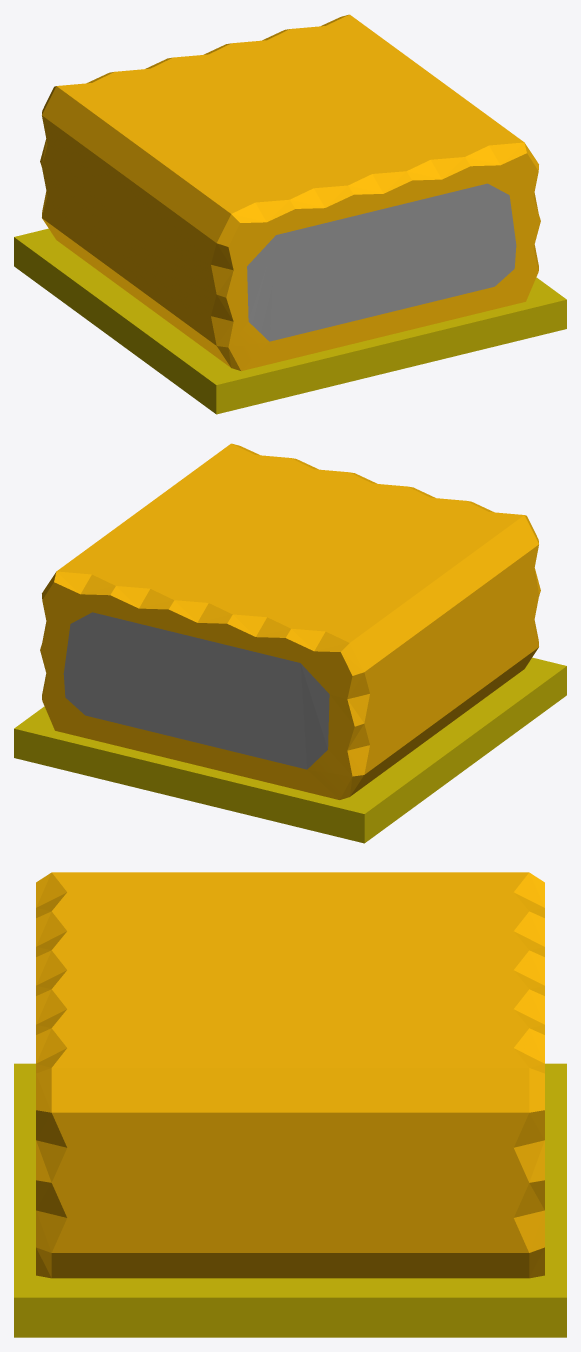
The model's file is epe_li_ion_small.dae.
3 renders of one model, top to bottom at view 1: azimuth 30°, elevation 25°; view 2: azimuth 150°, elevation 25°; view 3: azimuth 270°, elevation 25°, orthographic. The views are drawn at different scales.
Visible parts, largest first — view 1: li_ion_pack; view 2: li_ion_pack; view 3: li_ion_pack.
Part boxes in pixels (box(x1,y1,x2,y2)): li_ion_pack: box(14, 14, 566, 414); li_ion_pack: box(14, 443, 566, 843); li_ion_pack: box(14, 872, 566, 1337).
Size of the model in its own units: 0.25 by 0.25 by 0.125.
